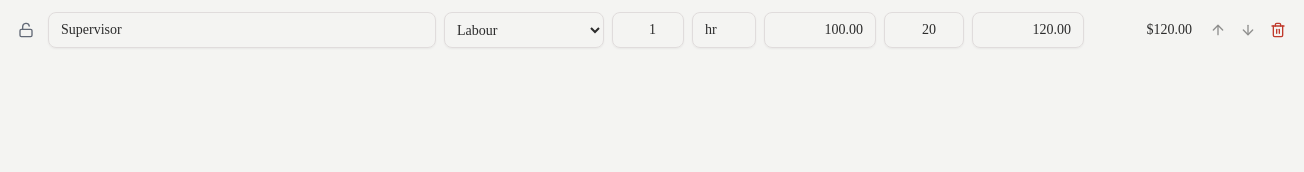
Test: a cost above the sell gives a negative markup, sell untouched
The image size is (1304, 172).
Step 1. Replace the text in the field named "Unit cost" with "150" → (820, 30), box [764,12,876,48]
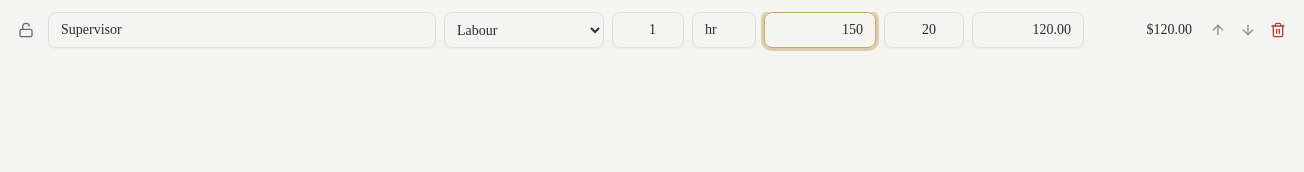
Step 2. Press Tab
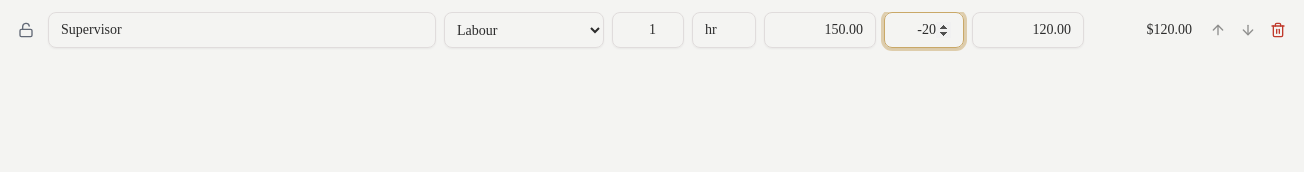
Expected: the field named "Unit sell" holds "120.00", [972,12,1084,48]
Now the number field named "Markup %" holds "-20", box [884,12,964,48]
